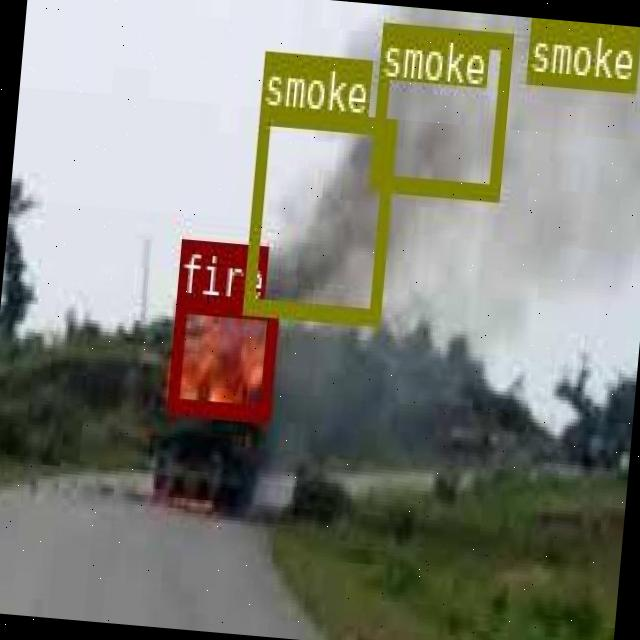fire: (164, 294, 276, 418)
smoke: (241, 106, 394, 320), (368, 19, 511, 198), (524, 18, 638, 90)
